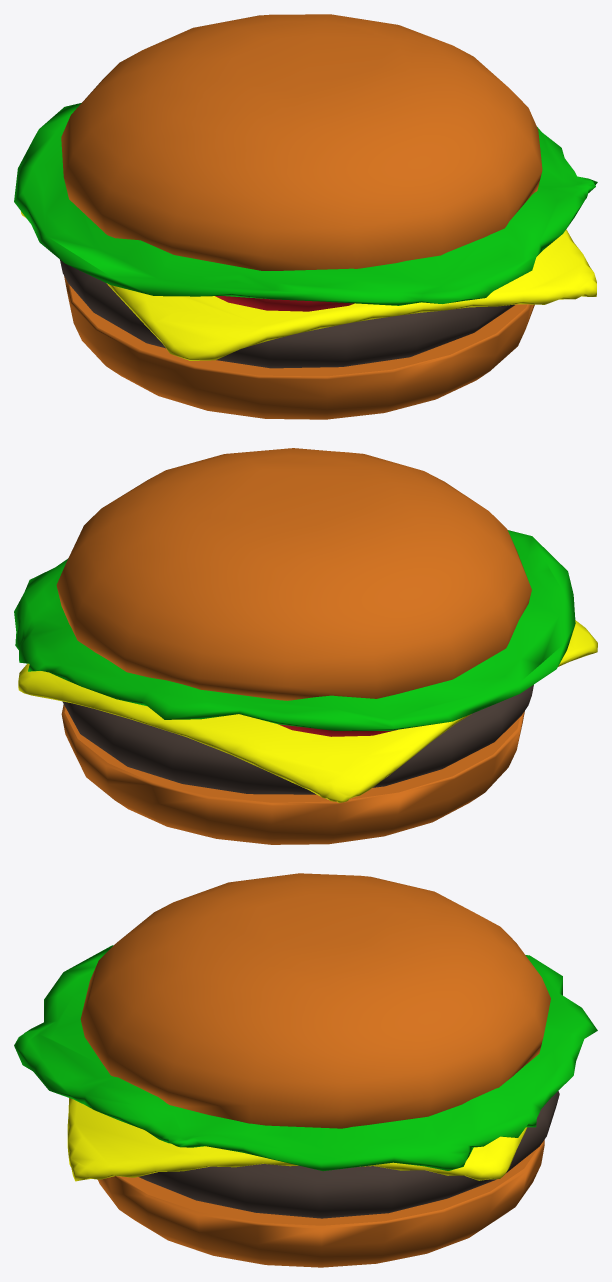
Rendered from Burger.fbx.
3 renders of one model, top to bottom at view 1: azimuth 30°, elevation 25°; view 2: azimuth 150°, elevation 25°; view 3: azimuth 270°, elevation 25°, orthographic. The views are drawn at different scales.
Visible parts, largest first — view 1: Burger; view 2: Burger; view 3: Burger.
Boxes of the visible parts, left/top/right/bottom form: Burger: left=14, top=14, right=597, bottom=419; Burger: left=14, top=448, right=597, bottom=844; Burger: left=14, top=873, right=597, bottom=1267.
Size of the model in its own units: 1.36 by 1.42 by 0.7287.
